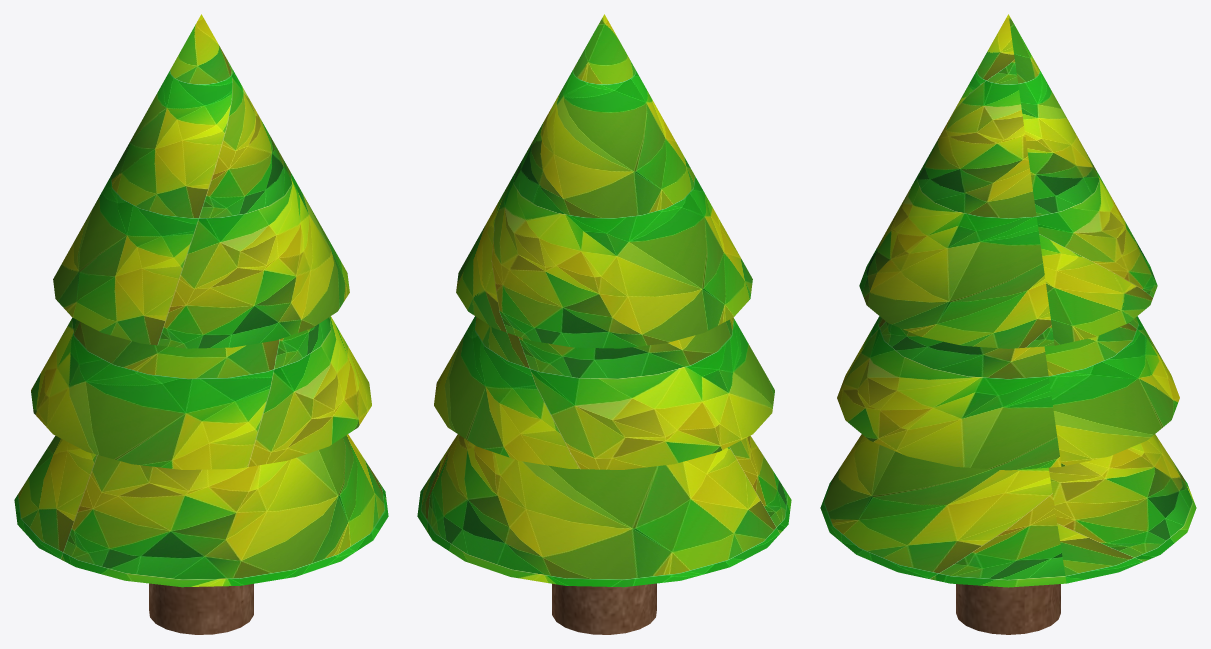
File: tree.fbx
The picture shows the model from 3 angles, left to right: view 1: azimuth 30°, elevation 25°; view 2: azimuth 150°, elevation 25°; view 3: azimuth 270°, elevation 25°; orthographic projection.
Parts seen in each view (by area): view 1: pCone2, pasted__pCone1, pCone1, pCylinder1; view 2: pCone2, pasted__pCone1, pCone1, pCylinder1; view 3: pCone2, pasted__pCone1, pCone1, pCylinder1.
Boxes of the visible parts, left/top/right/bottom form: pCone2: left=53, top=14, right=349, bottom=348; pasted__pCone1: left=14, top=434, right=388, bottom=587; pCone1: left=31, top=316, right=371, bottom=469; pCylinder1: left=149, top=583, right=253, bottom=634; pCone2: left=456, top=14, right=752, bottom=348; pasted__pCone1: left=417, top=434, right=791, bottom=587; pCone1: left=434, top=316, right=774, bottom=469; pCylinder1: left=552, top=583, right=656, bottom=634; pCone2: left=859, top=14, right=1157, bottom=348; pasted__pCone1: left=820, top=434, right=1196, bottom=587; pCone1: left=837, top=316, right=1179, bottom=470; pCylinder1: left=956, top=584, right=1060, bottom=634.
Bounding box in the file's own units: 0.7479 × 1.31 × 0.7479.
